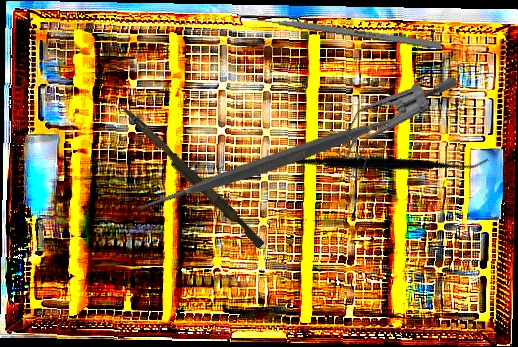Pusher: (111, 100, 269, 250), (238, 12, 442, 50)
Spatula Surgical: (121, 2, 435, 317), (254, 60, 491, 271)
Speculum: (323, 44, 462, 208)
